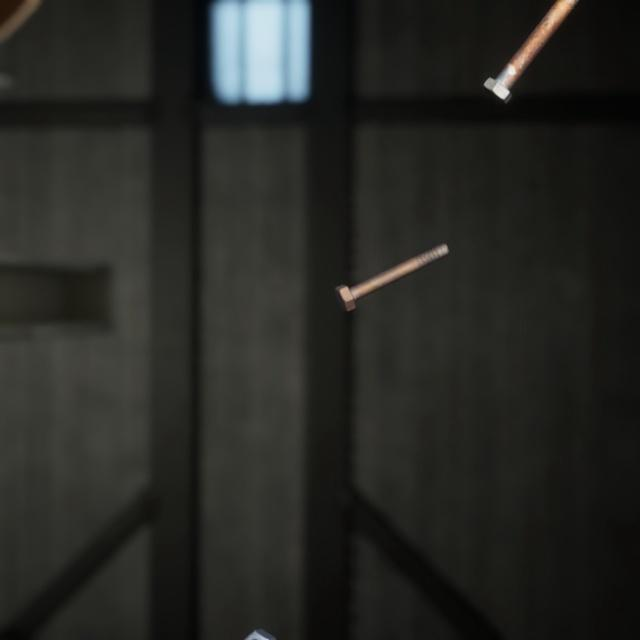bolt: (478, 0, 577, 99), (330, 223, 453, 299)
nut: (238, 600, 282, 640)
